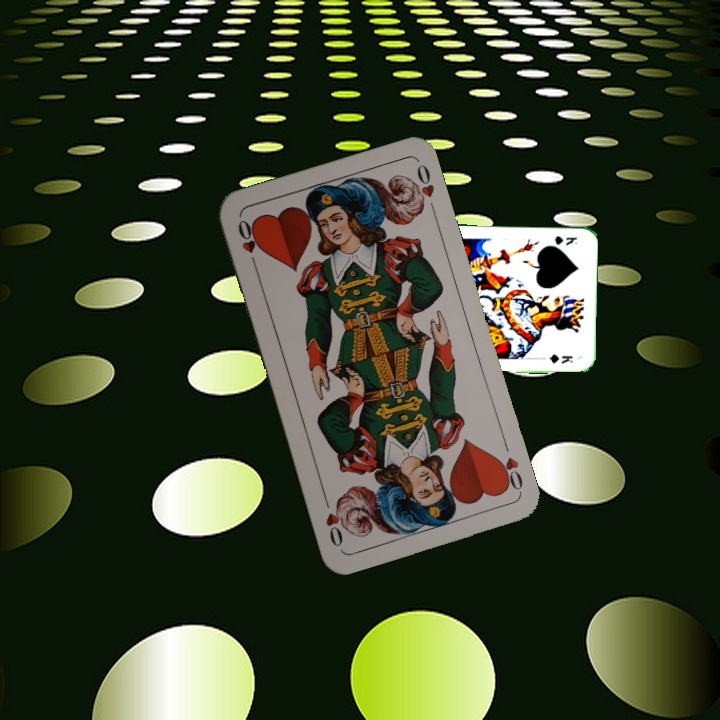GK: (549, 232, 580, 248)
HO: (492, 437, 526, 495), (233, 215, 263, 272)
